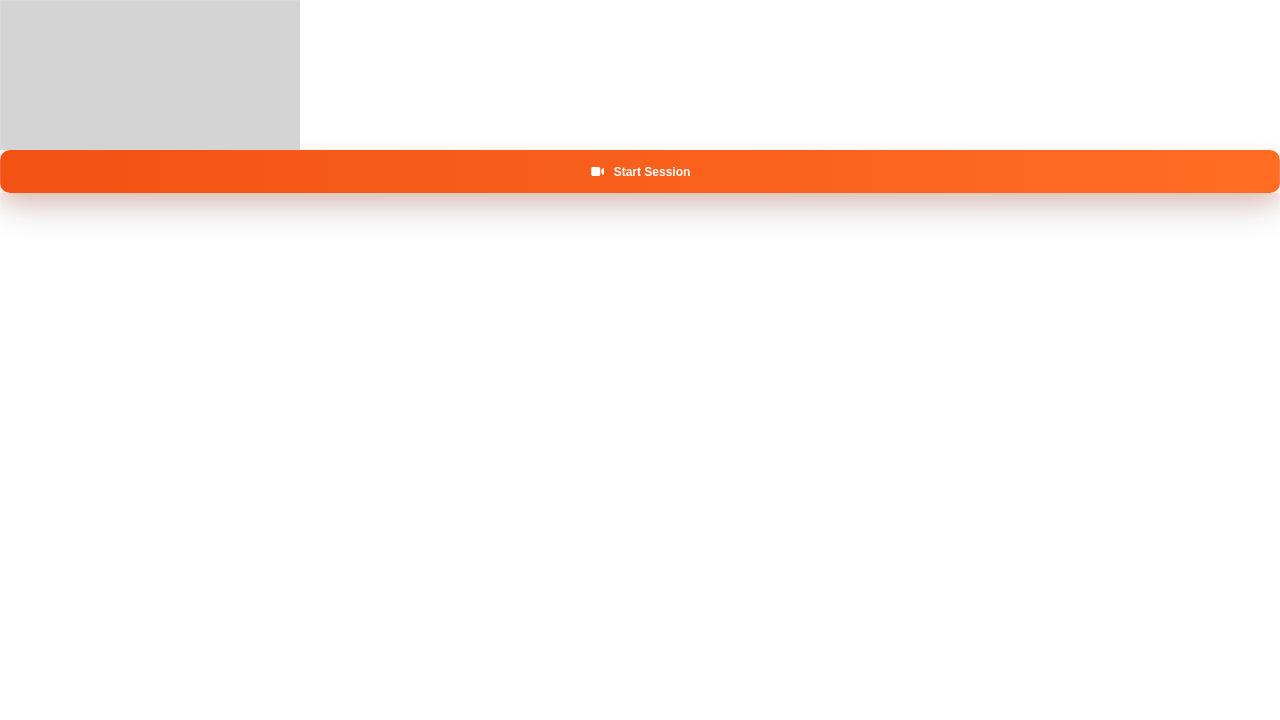
Test: explains how to recover when camera permission is denied
The width and height of the screenshot is (1280, 720).
Click the button "Start Session". click: (640,172)
box: [0,150,1279,193]
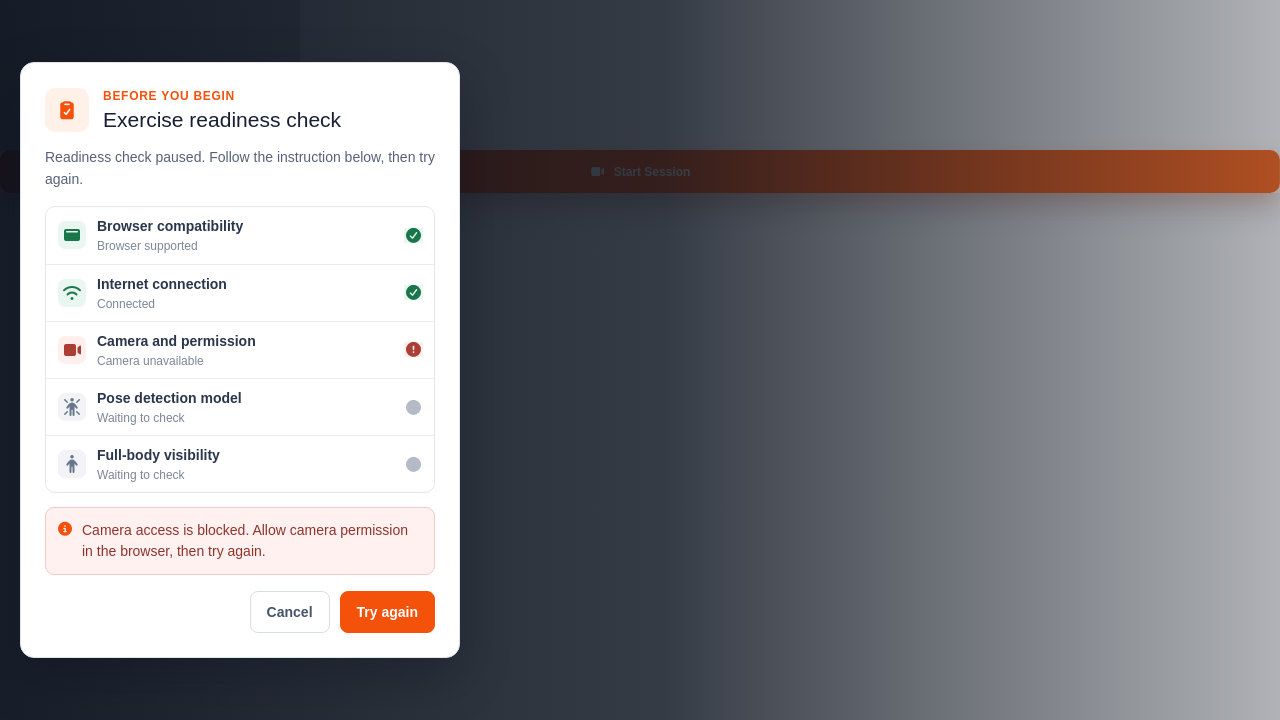
Now the text "Camera unavailable" is shown, box [97,354,204,368]
Now the message shows "Allow camera permission", box [82,522,408,559]
